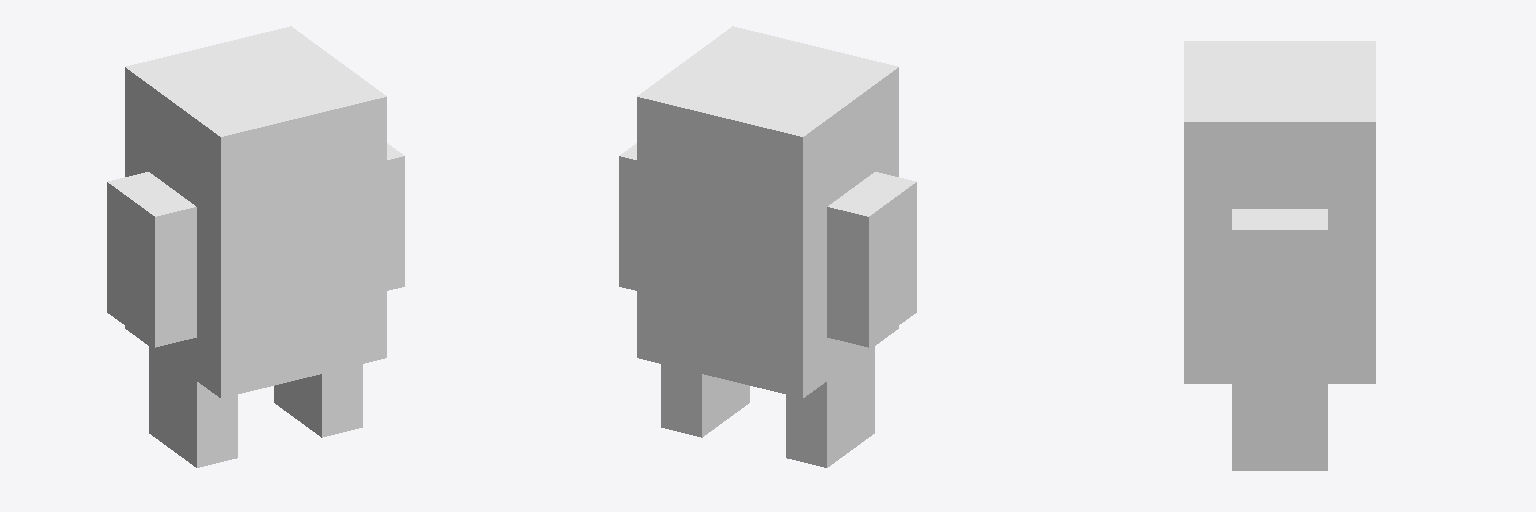
File: Steve.obj
3 renders of one model, left to right at view 1: azimuth 30°, elevation 25°; view 2: azimuth 150°, elevation 25°; view 3: azimuth 270°, elevation 25°, orthographic.
Parts seen in each view (by area): view 1: object 1; view 2: object 1; view 3: object 1.
Part boxes in pixels (x1,y1,x2,y2): object 1: (107, 26, 404, 467); object 1: (619, 26, 916, 467); object 1: (1184, 41, 1375, 470).
Size of the model in its own units: 0.6 by 0.8 by 0.4.